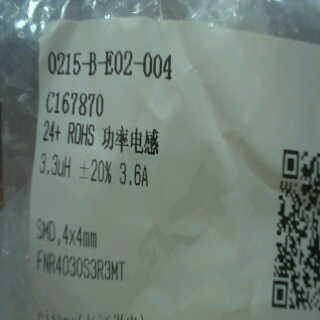3.3uH: (29, 146, 81, 179)
